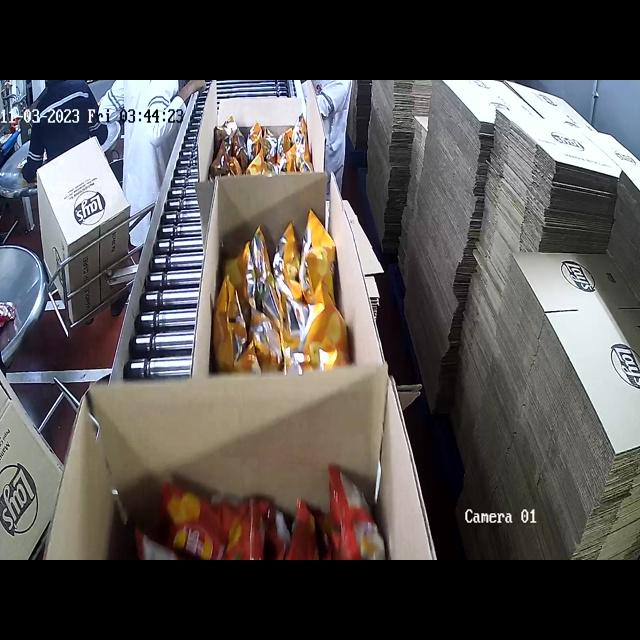cheese: (232, 242, 359, 374), (207, 111, 317, 185)
masala: (133, 468, 382, 560)
